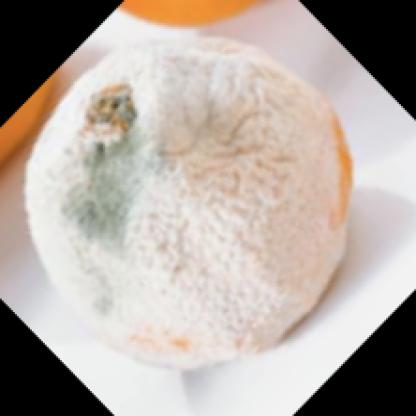rotten: (27, 38, 352, 365)
